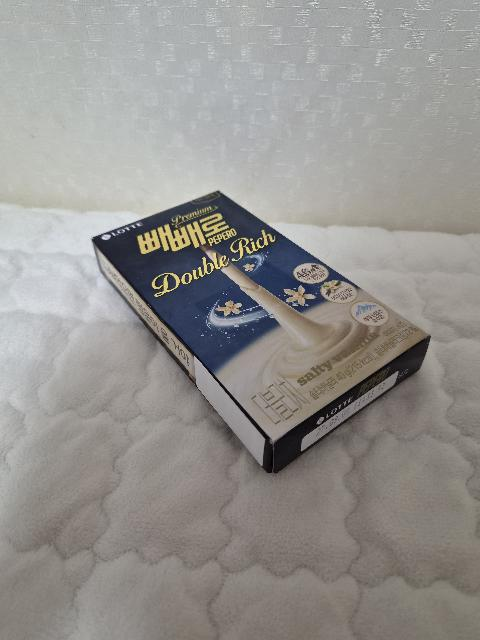pepero: (91, 190, 431, 474)
